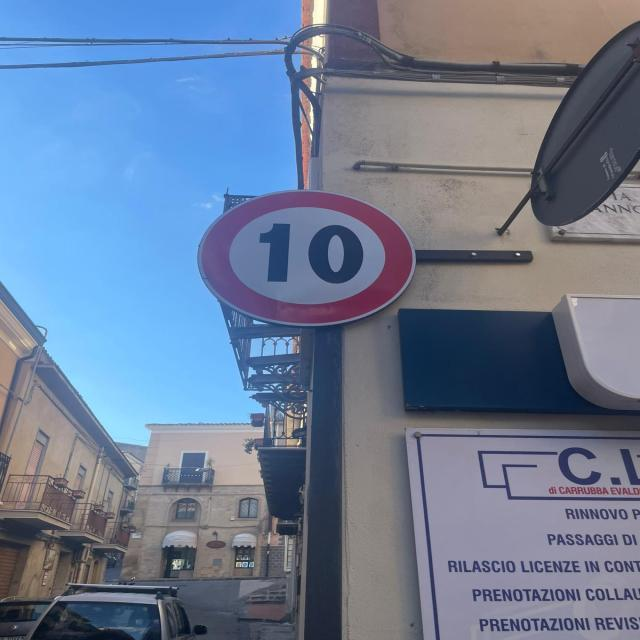forb_speed_over_10: (194, 189, 420, 331)
